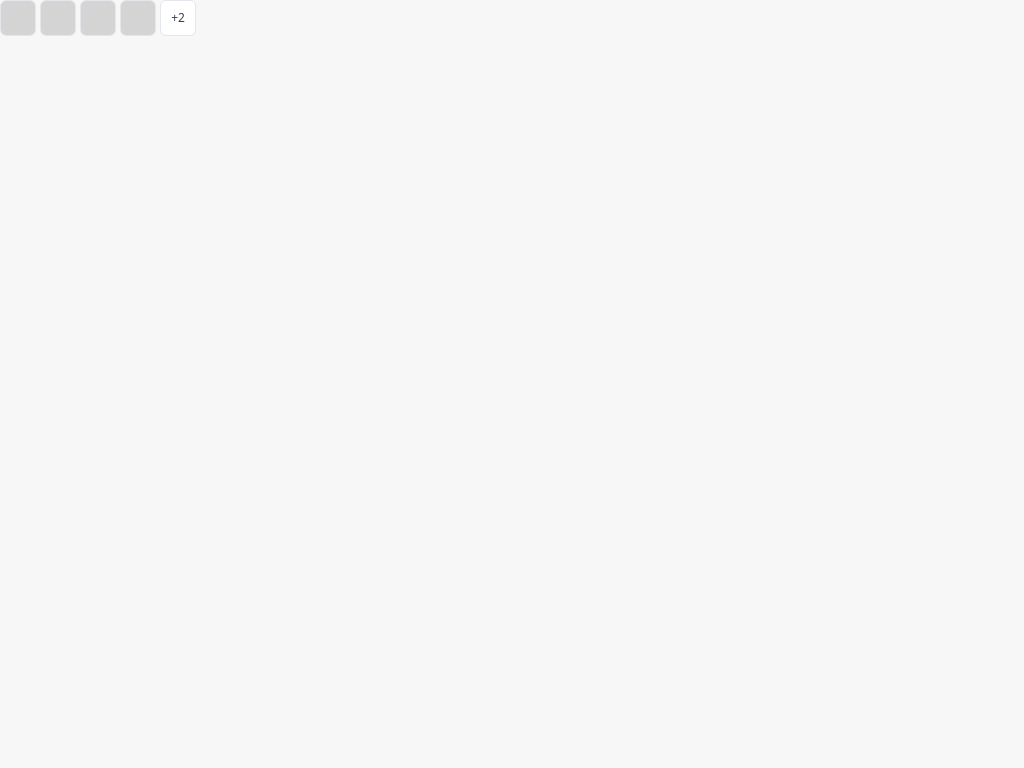
Test: ThumbSet › shows at most the given number, the rest behind +N that opens the lightbox there
The width and height of the screenshot is (1024, 768).
Click the button named "Show 2 more": (178, 18) [160, 0, 196, 36]
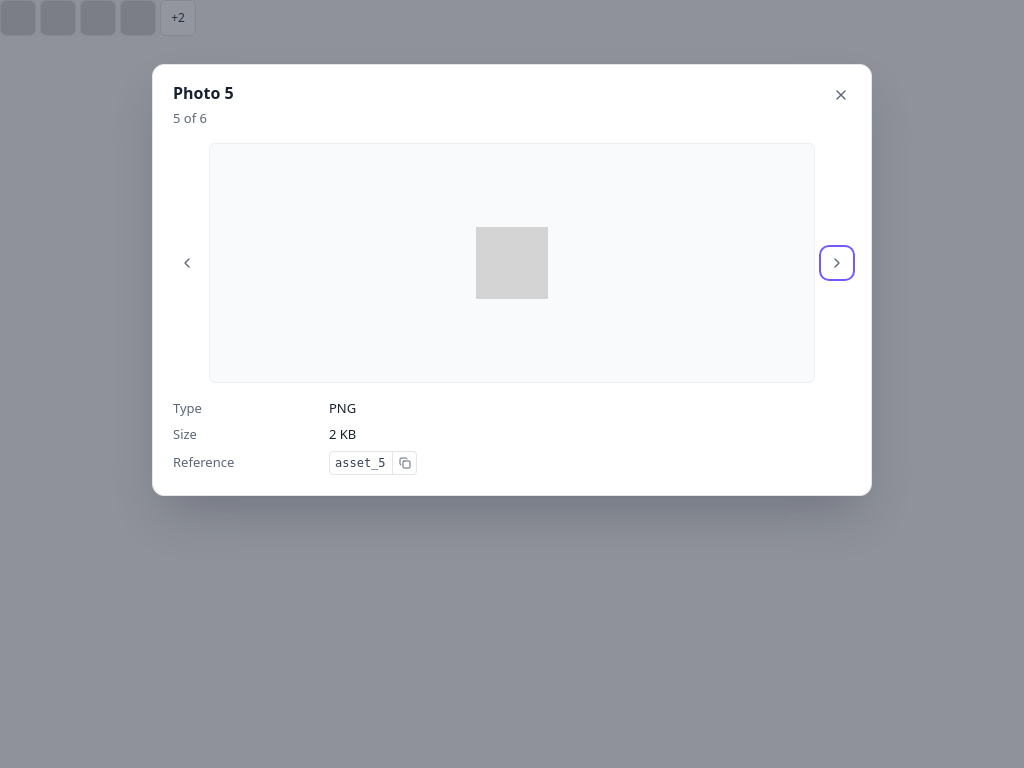
Expected: the dialog shows "Photo 5", [173, 82, 234, 104]
Expected: the dialog shows "5 of 6", [173, 109, 207, 127]
